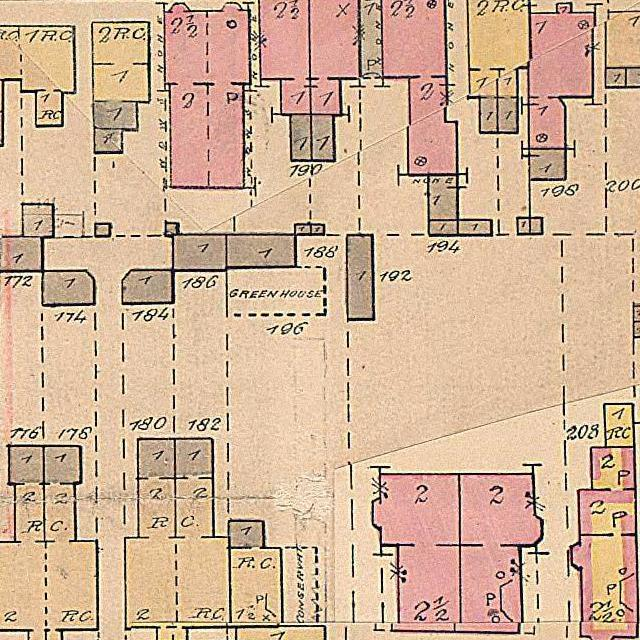building-footprints: (125, 439, 230, 640), (0, 446, 98, 640), (164, 3, 250, 188), (373, 474, 460, 632), (381, 0, 457, 175), (459, 474, 542, 633), (571, 447, 638, 640), (528, 3, 593, 149), (467, 0, 529, 133), (0, 26, 75, 126), (92, 22, 150, 129), (259, 0, 311, 115), (309, 0, 360, 115), (230, 520, 282, 627), (605, 11, 640, 87), (226, 234, 296, 267), (347, 235, 374, 320), (172, 235, 226, 270), (42, 271, 95, 304), (122, 270, 172, 303), (0, 237, 43, 271), (428, 175, 458, 219), (605, 404, 634, 447), (236, 626, 325, 640), (529, 149, 566, 179), (311, 114, 334, 161), (23, 204, 54, 237), (290, 114, 311, 160), (94, 128, 122, 153), (458, 220, 492, 235), (429, 220, 458, 235), (517, 218, 530, 234), (95, 224, 110, 237), (530, 218, 542, 234), (166, 222, 179, 235), (295, 224, 311, 234), (312, 224, 324, 234), (634, 306, 640, 322), (634, 322, 640, 337)
